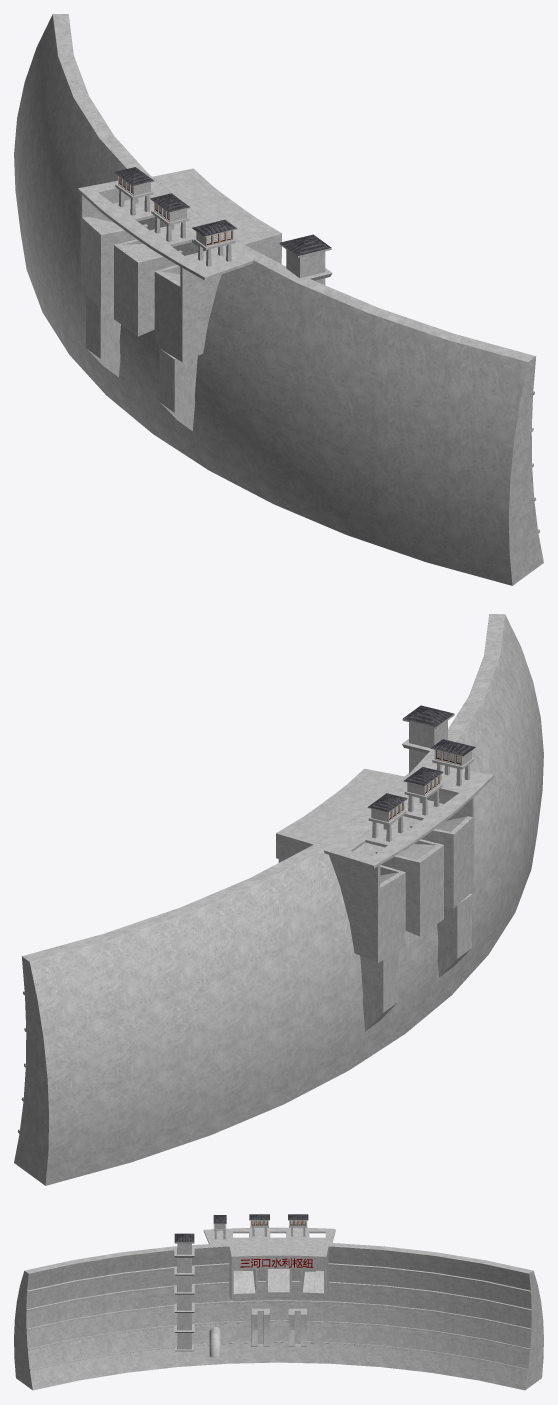
The model's file is daba.obj.
3 renders of one model, top to bottom at view 1: azimuth 30°, elevation 25°; view 2: azimuth 150°, elevation 25°; view 3: azimuth 270°, elevation 25°, orthographic. The views are drawn at different scales.
Parts seen in each view (by area): view 1: dabai, Box011, object 14, object 11, object 7; view 2: dabai, Box011, object 11, object 7, object 14; view 3: dabai, Box011, Box018, Text002.
Part boxes in pixels (x1,y1,x2,y2): dabai: [14, 14, 543, 585]; Box011: [279, 243, 332, 284]; object 14: [192, 228, 236, 266]; object 11: [150, 199, 190, 241]; object 7: [114, 172, 154, 215]; dabai: [14, 614, 543, 1185]; Box011: [402, 714, 454, 776]; object 11: [403, 772, 443, 815]; object 7: [367, 798, 407, 841]; object 14: [430, 747, 475, 785]; dabai: [14, 1227, 543, 1390]; Box011: [174, 1242, 194, 1351]; Box018: [251, 1308, 306, 1346]; Text002: [240, 1258, 313, 1267].
Bounding box in the file's own units: 134 × 170 × 612.
Materials: 4 (3 with a texture image).
